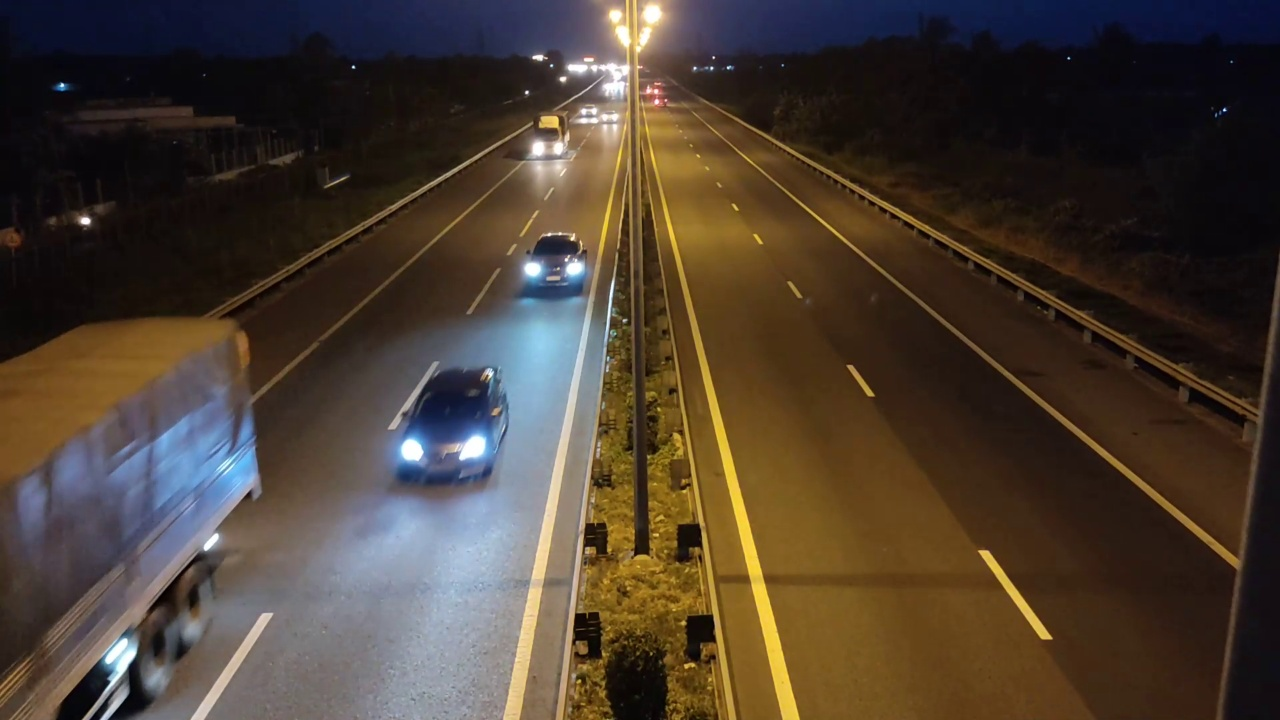car: (392, 366, 510, 485), (521, 232, 589, 298)
